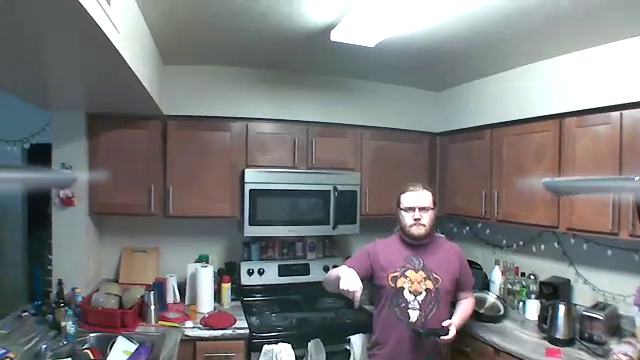down: (334, 263, 366, 313)
